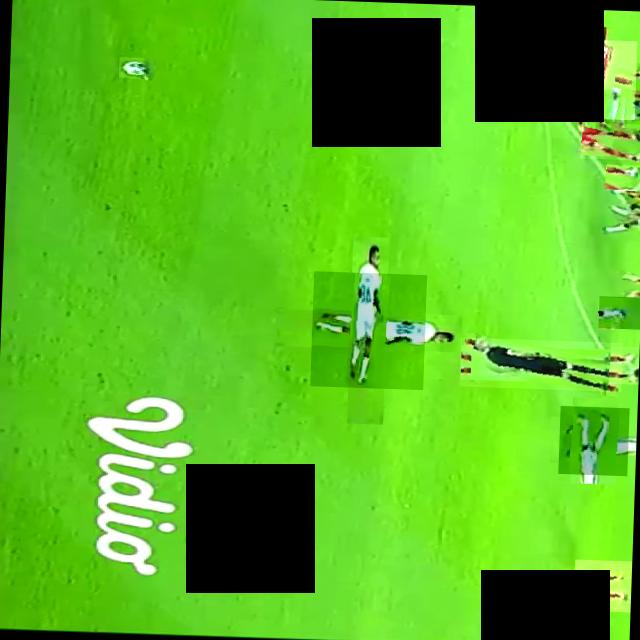ball: (117, 57, 153, 79)
referee: (458, 336, 622, 392)
soccer-player: (308, 270, 426, 390), (554, 38, 636, 120), (557, 406, 628, 476), (572, 559, 632, 612), (579, 122, 640, 160), (593, 88, 640, 136), (597, 296, 640, 329), (608, 346, 639, 384), (603, 164, 640, 191)
